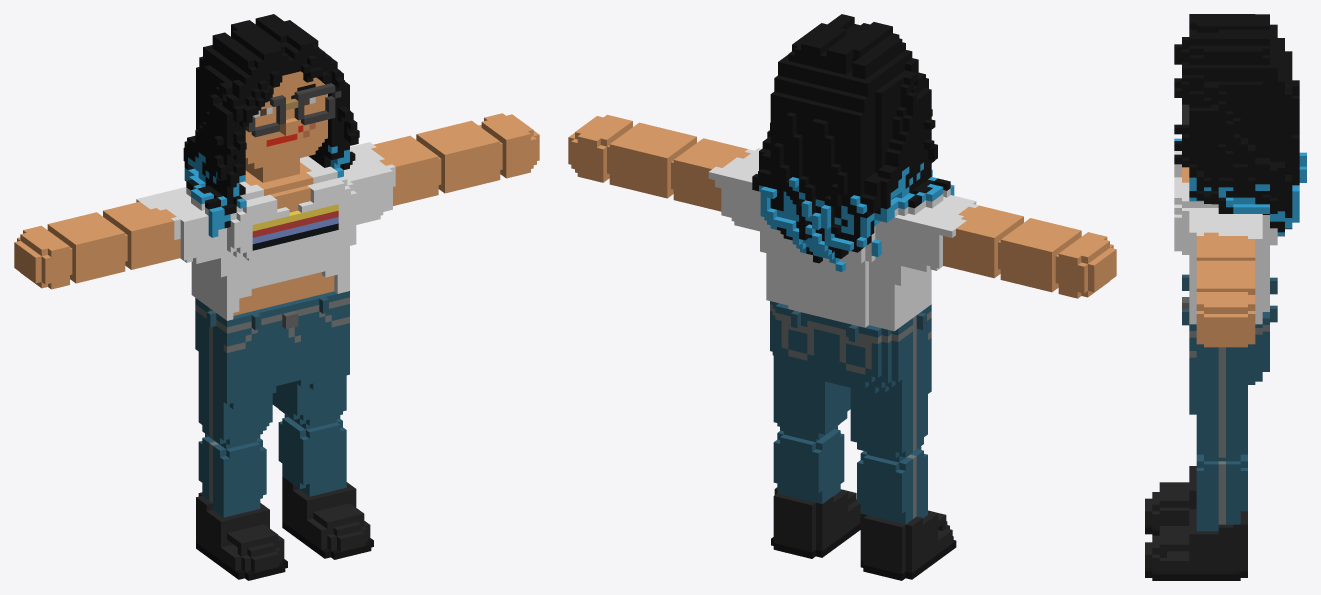
File: Personaje1.fbx
The picture shows the model from 3 angles, left to right: view 1: azimuth 30°, elevation 25°; view 2: azimuth 150°, elevation 25°; view 3: azimuth 270°, elevation 25°; orthographic projection. The views are drawn at different scales.
Visible parts, largest first — view 1: node_id3; view 2: node_id3; view 3: node_id3.
Boxes of the visible parts, x1=… form: node_id3: x1=14, y1=14, x2=539, y2=580; node_id3: x1=568, y1=14, x2=1116, y2=580; node_id3: x1=1145, y1=14, x2=1306, y2=580.
Bounding box in the file's own units: 0.512 × 0.487 × 0.1374.
Materials: 1 (1 with a texture image).
